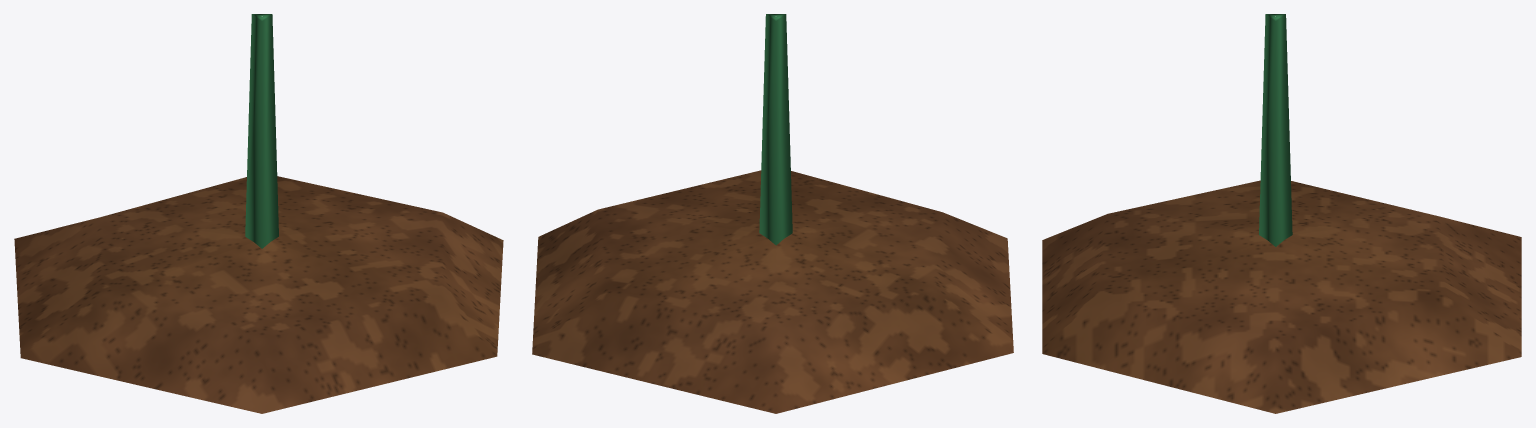
The model's file is plant-blueberry-4-far.glb.
3 views of the same model, side by side, from view 1: azimuth 30°, elevation 25°; view 2: azimuth 150°, elevation 25°; view 3: azimuth 270°, elevation 25° (orthographic).
Visible parts, largest first — view 1: plant-blueberry-4-far; view 2: plant-blueberry-4-far; view 3: plant-blueberry-4-far.
Part boxes in pixels (left/top/right/bottom): plant-blueberry-4-far: left=14, top=14, right=503, bottom=413; plant-blueberry-4-far: left=532, top=14, right=1013, bottom=413; plant-blueberry-4-far: left=1042, top=14, right=1521, bottom=413.
Size of the model in its own units: 0.84 by 0.47 by 0.7275.
3 materials, 1 textured.
